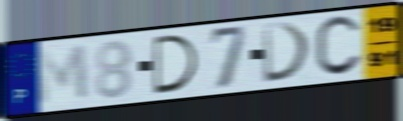7: (208, 24, 248, 92)
8: (93, 38, 136, 102)
C: (312, 14, 364, 80)
D: (260, 21, 314, 86), (150, 32, 202, 96)
M: (35, 43, 92, 108)
